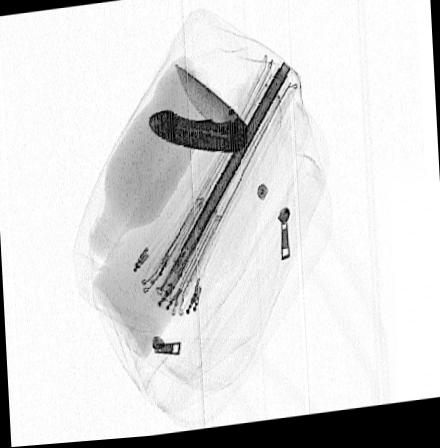Knife: (146, 64, 251, 160)
